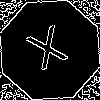X: (25, 25, 75, 80)
